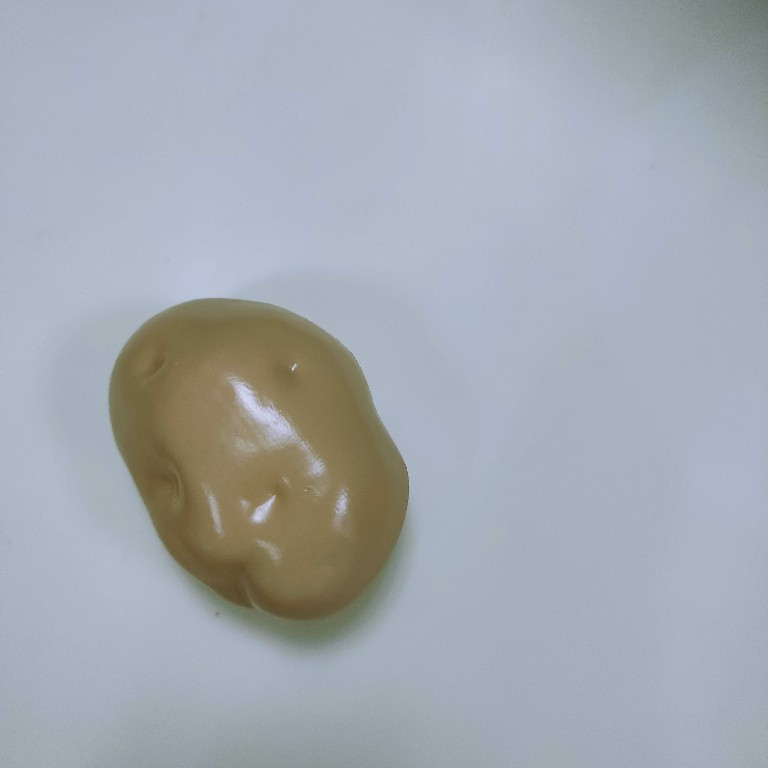fruit_potato: (106, 294, 413, 626)
